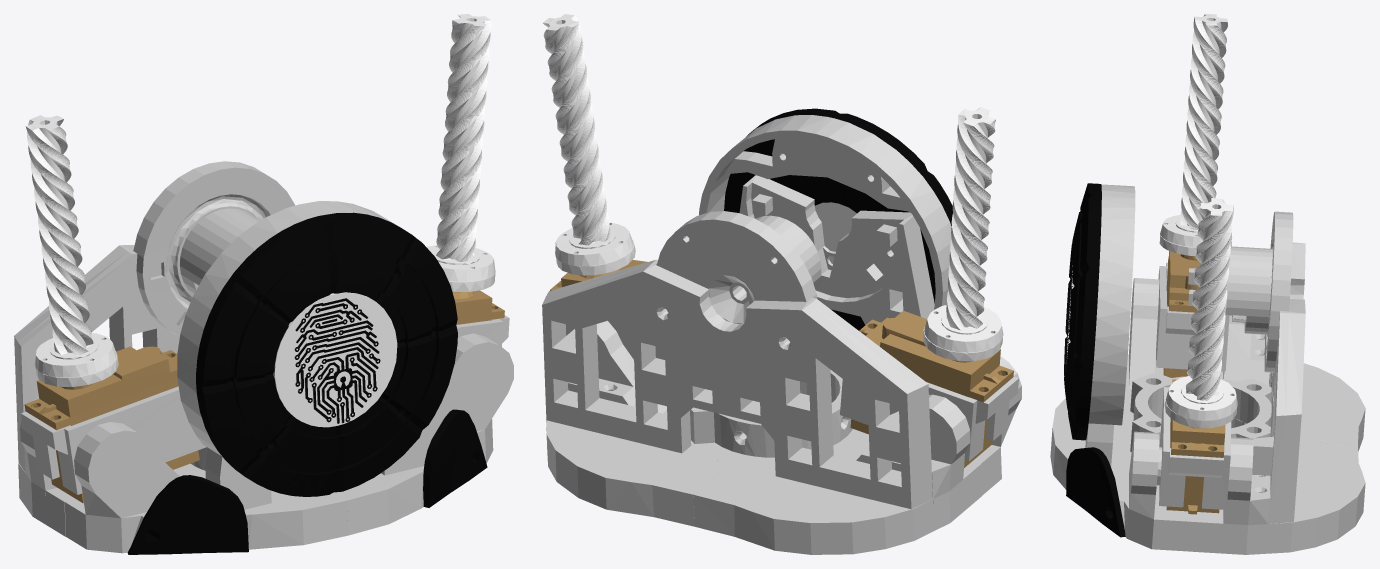
File: i01.topstom.dae
The picture shows the model from 3 angles, left to right: view 1: azimuth 30°, elevation 25°; view 2: azimuth 150°, elevation 25°; view 3: azimuth 270°, elevation 25°; orthographic projection. The views are drawn at different scales.
Visible parts, largest first — view 1: i01.torso.topStom.full; view 2: i01.torso.topStom.full; view 3: i01.torso.topStom.full.
Boxes of the visible parts, left/top/right/bottom form: i01.torso.topStom.full: left=14, top=14, right=513, bottom=554; i01.torso.topStom.full: left=542, top=14, right=1021, bottom=554; i01.torso.topStom.full: left=1050, top=14, right=1365, bottom=554.
Bounding box in the file's own units: 2.44 × 1.64 × 2.11.
